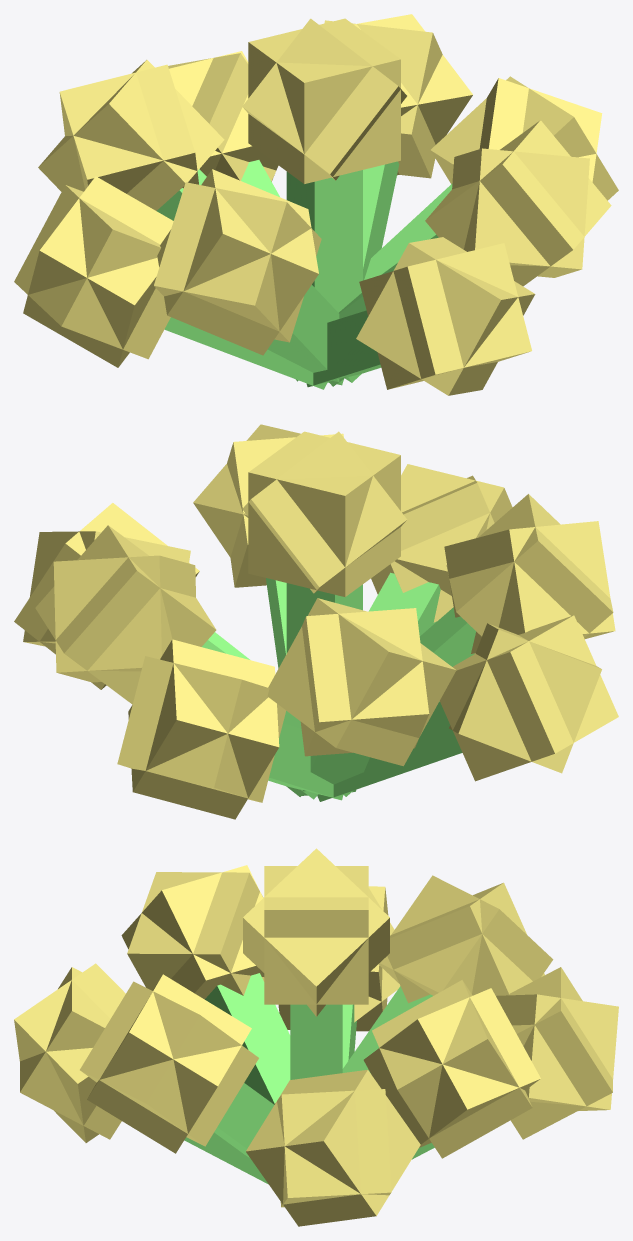
File: glimmer_cluster.obj
3 renders of one model, top to bottom at view 1: azimuth 30°, elevation 25°; view 2: azimuth 150°, elevation 25°; view 3: azimuth 270°, elevation 25°, orthographic. The views are drawn at different scales.
Visible parts, largest first — view 1: cube_0, cube_22, cube_7, cube_12, cube_21, cube_13, cube_6, cube_15, cube_1, cube_18, cube_16, cube_19 (+13 smaller); view 2: cube_0, cube_4, cube_6, cube_19, cube_18, cube_3, cube_24, cube_1, cube_21, cube_25, cube_22, cube_7 (+13 smaller); view 3: cube_10, cube_15, cube_25, cube_16, cube_24, cube_0, cube_1, cube_22, cube_9, cube_18, cube_19, cube_3 (+12 smaller).
Boxes of the visible parts, left/top/right/bottom form: cube_0: left=248, top=18, right=400, bottom=183; cube_22: left=157, top=169, right=318, bottom=355; cube_7: left=23, top=176, right=173, bottom=367; cube_12: left=359, top=243, right=531, bottom=389; cube_21: left=154, top=182, right=321, bottom=342; cube_13: left=356, top=237, right=535, bottom=395; cube_6: left=14, top=185, right=170, bottom=359; cube_15: left=425, top=120, right=611, bottom=286; cube_1: left=242, top=18, right=406, bottom=180; cube_18: left=38, top=60, right=224, bottom=210; cube_16: left=452, top=148, right=589, bottom=277; cube_19: left=59, top=64, right=198, bottom=193; cube_0: left=248, top=431, right=400, bottom=596; cube_4: left=128, top=639, right=279, bottom=819; cube_6: left=440, top=615, right=618, bottom=781; cube_19: left=267, top=598, right=456, bottom=766; cube_18: left=300, top=608, right=429, bottom=756; cube_3: left=117, top=656, right=285, bottom=802; cube_24: left=35, top=525, right=216, bottom=704; cube_1: left=242, top=431, right=407, bottom=593; cube_21: left=446, top=494, right=613, bottom=637; cube_25: left=53, top=555, right=195, bottom=682; cube_22: left=444, top=521, right=615, bottom=653; cube_7: left=449, top=623, right=601, bottom=773; cube_10: left=246, top=1069, right=420, bottom=1226; cube_15: left=80, top=981, right=258, bottom=1146; cube_25: left=372, top=980, right=532, bottom=1158; cube_16: left=87, top=974, right=251, bottom=1153; cube_24: left=363, top=988, right=540, bottom=1147; cube_0: left=264, top=866, right=368, bottom=1004; cube_1: left=243, top=848, right=389, bottom=1016; cube_22: left=127, top=872, right=264, bottom=995; cube_9: left=275, top=1089, right=391, bottom=1207; cube_18: left=378, top=875, right=553, bottom=995; cube_19: left=387, top=882, right=544, bottom=1003; cube_3: left=508, top=967, right=612, bottom=1139.
Bounding box in the file's own units: 0.7269 × 0.4468 × 0.7261.
